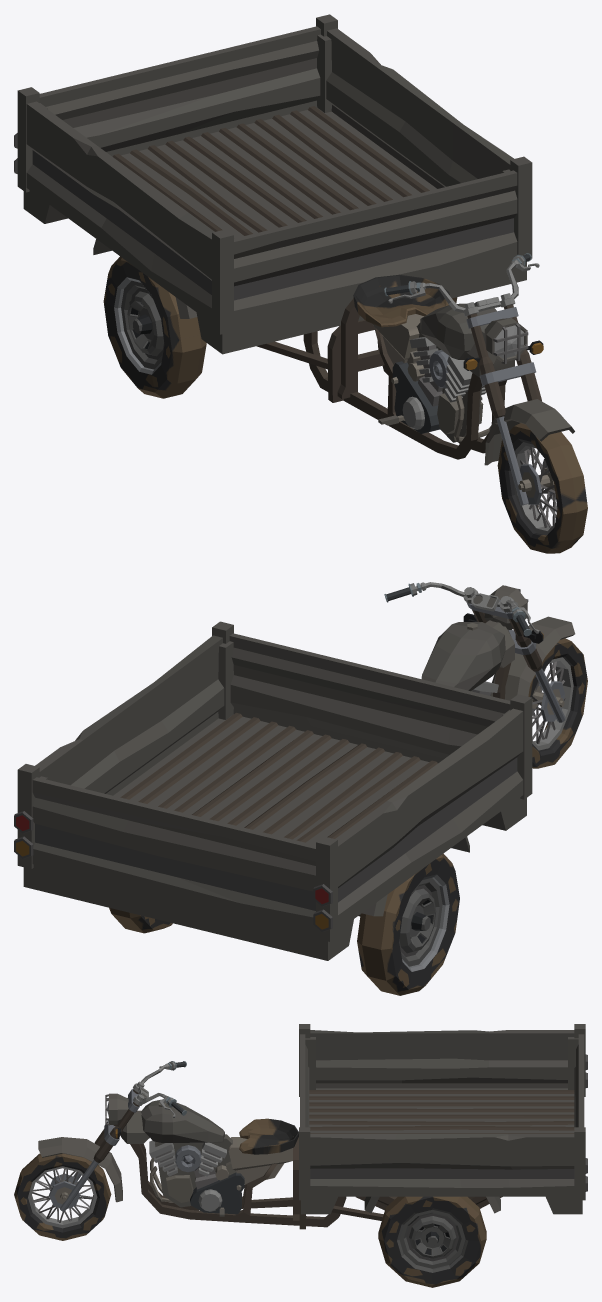
Rendered from SM_Veh_Motorbike_01.fbx.
3 views of the same model, one above another, from view 1: azimuth 30°, elevation 25°; view 2: azimuth 150°, elevation 25°; view 3: azimuth 270°, elevation 25° (orthographic). The views are drawn at different scales.
Visible parts, largest first — view 1: SM_Veh_Motorbike_01, SM_Veh_Motorbike_01_Wheel_r, SM_Veh_Motorbike_01_HandleBars, SM_Veh_Motorbike_01_Front_Wheel, SM_Veh_Motorbike_01_Front_Shock; view 2: SM_Veh_Motorbike_01, SM_Veh_Motorbike_01_Wheel_r, SM_Veh_Motorbike_01_HandleBars, SM_Veh_Motorbike_01_Front_Wheel, SM_Veh_Motorbike_01_Front_Shock, SM_Veh_Motorbike_01_Wheel_l; view 3: SM_Veh_Motorbike_01, SM_Veh_Motorbike_01_Wheel_l, SM_Veh_Motorbike_01_Front_Wheel, SM_Veh_Motorbike_01_HandleBars, SM_Veh_Motorbike_01_Front_Shock.
Boxes of the visible parts, bbox=[...] form: SM_Veh_Motorbike_01: bbox=[14, 14, 532, 459]; SM_Veh_Motorbike_01_Wheel_r: bbox=[103, 256, 206, 398]; SM_Veh_Motorbike_01_HandleBars: bbox=[384, 253, 574, 465]; SM_Veh_Motorbike_01_Front_Wheel: bbox=[497, 423, 587, 553]; SM_Veh_Motorbike_01_Front_Shock: bbox=[496, 416, 556, 505]; SM_Veh_Motorbike_01: bbox=[14, 620, 532, 960]; SM_Veh_Motorbike_01_Wheel_r: bbox=[357, 853, 459, 995]; SM_Veh_Motorbike_01_HandleBars: bbox=[384, 582, 575, 700]; SM_Veh_Motorbike_01_Front_Wheel: bbox=[528, 638, 587, 768]; SM_Veh_Motorbike_01_Front_Shock: bbox=[532, 668, 565, 722]; SM_Veh_Motorbike_01_Wheel_l: bbox=[109, 907, 172, 933]; SM_Veh_Motorbike_01: bbox=[121, 1024, 587, 1229]; SM_Veh_Motorbike_01_Wheel_l: bbox=[378, 1196, 486, 1287]; SM_Veh_Motorbike_01_Front_Wheel: bbox=[14, 1153, 111, 1240]; SM_Veh_Motorbike_01_HandleBars: bbox=[38, 1061, 186, 1202]; SM_Veh_Motorbike_01_Front_Shock: bbox=[49, 1160, 98, 1211].
Size of the model in its own units: 200 by 138 by 441.
